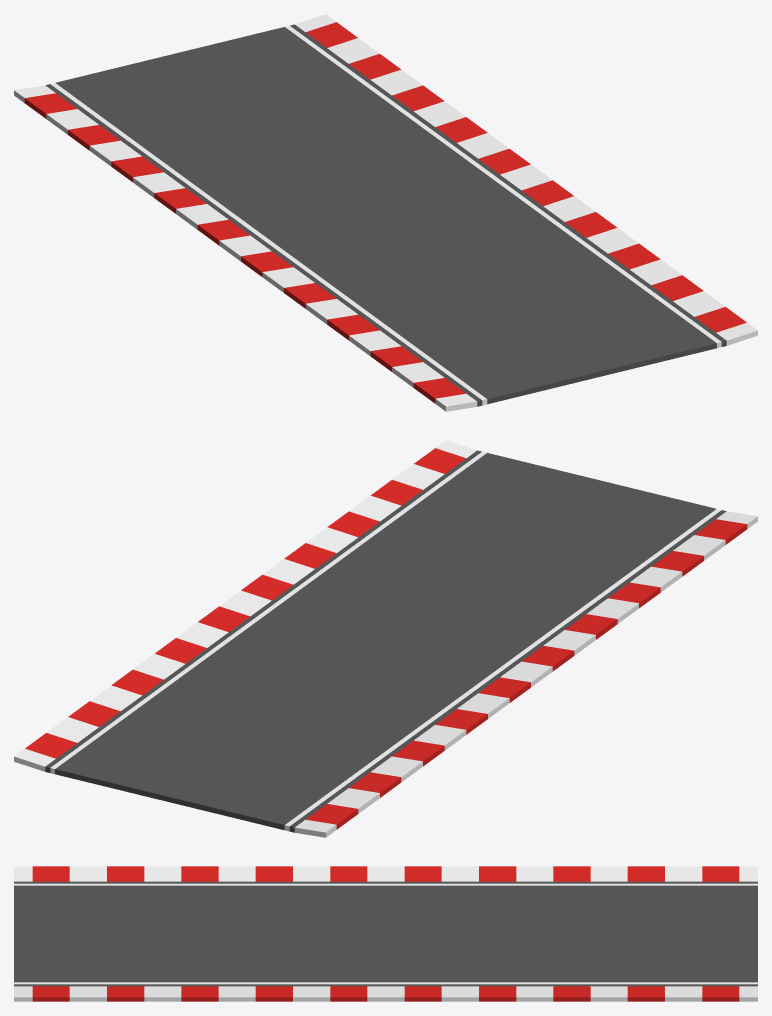
Rendered from Track long.fbx.
3 renders of one model, top to bottom at view 1: azimuth 30°, elevation 25°; view 2: azimuth 150°, elevation 25°; view 3: azimuth 270°, elevation 25°, orthographic. The views are drawn at different scales.
Visible parts, largest first — view 1: Track_line_type_01_30m_free; view 2: Track_line_type_01_30m_free; view 3: Track_line_type_01_30m_free.
Boxes of the visible parts, bbox=[...] form: Track_line_type_01_30m_free: bbox=[14, 14, 757, 411]; Track_line_type_01_30m_free: bbox=[14, 440, 757, 837]; Track_line_type_01_30m_free: bbox=[14, 866, 757, 1001].
Bounding box in the file's own units: 1250 × 30 × 3000.
